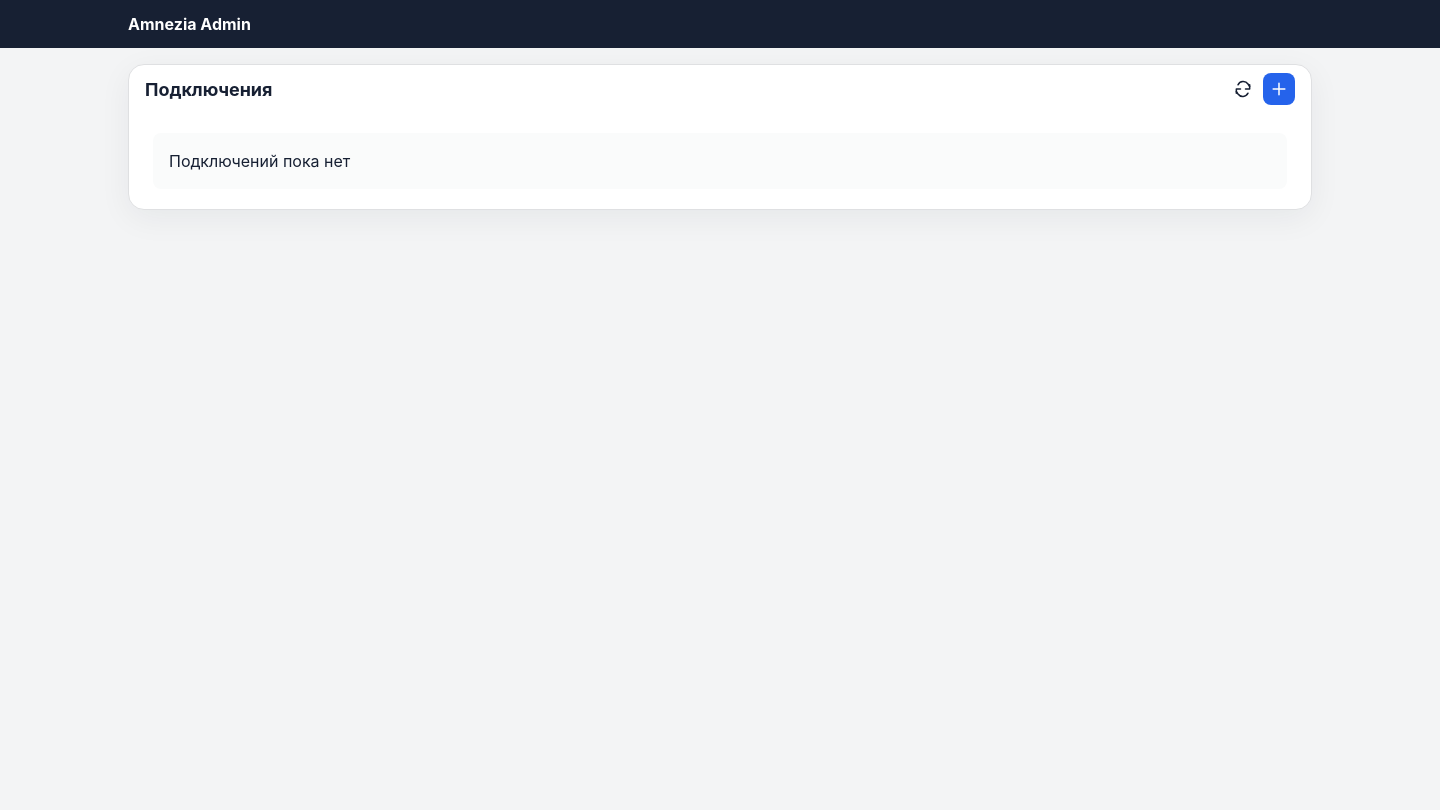
it: App › shows an empty state and opens the create modal on demand
expect the text "Подключений пока нет" is shown: met, box [153,133,1287,189]
Click the button named "Добавить подключение" at x=1279, y=89, box [1263,73,1295,105]
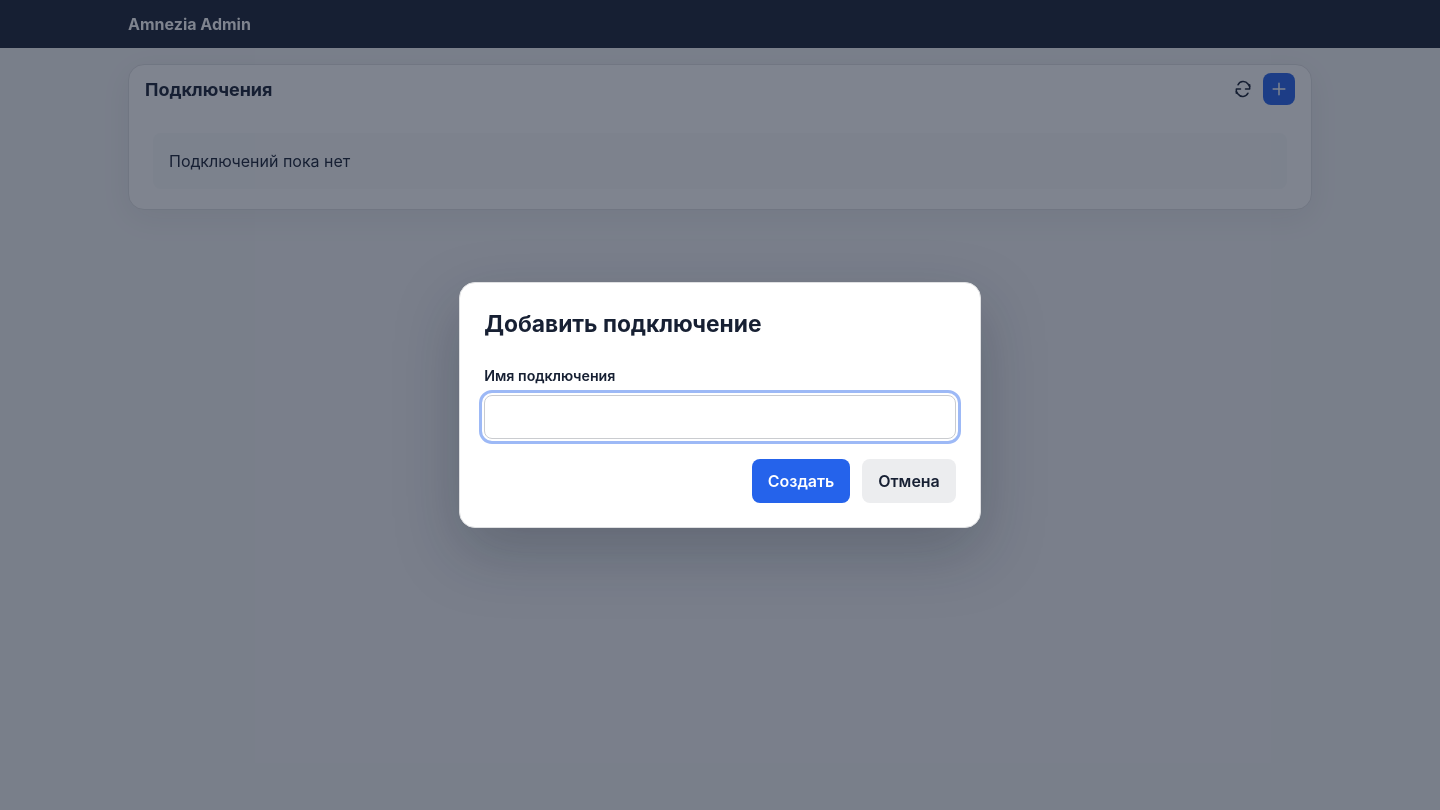
expect the dialog "Добавить подключение" is shown: met, box [459,282,981,528]
Click the button "Отмена" at x=909, y=481, box [862,459,956,503]
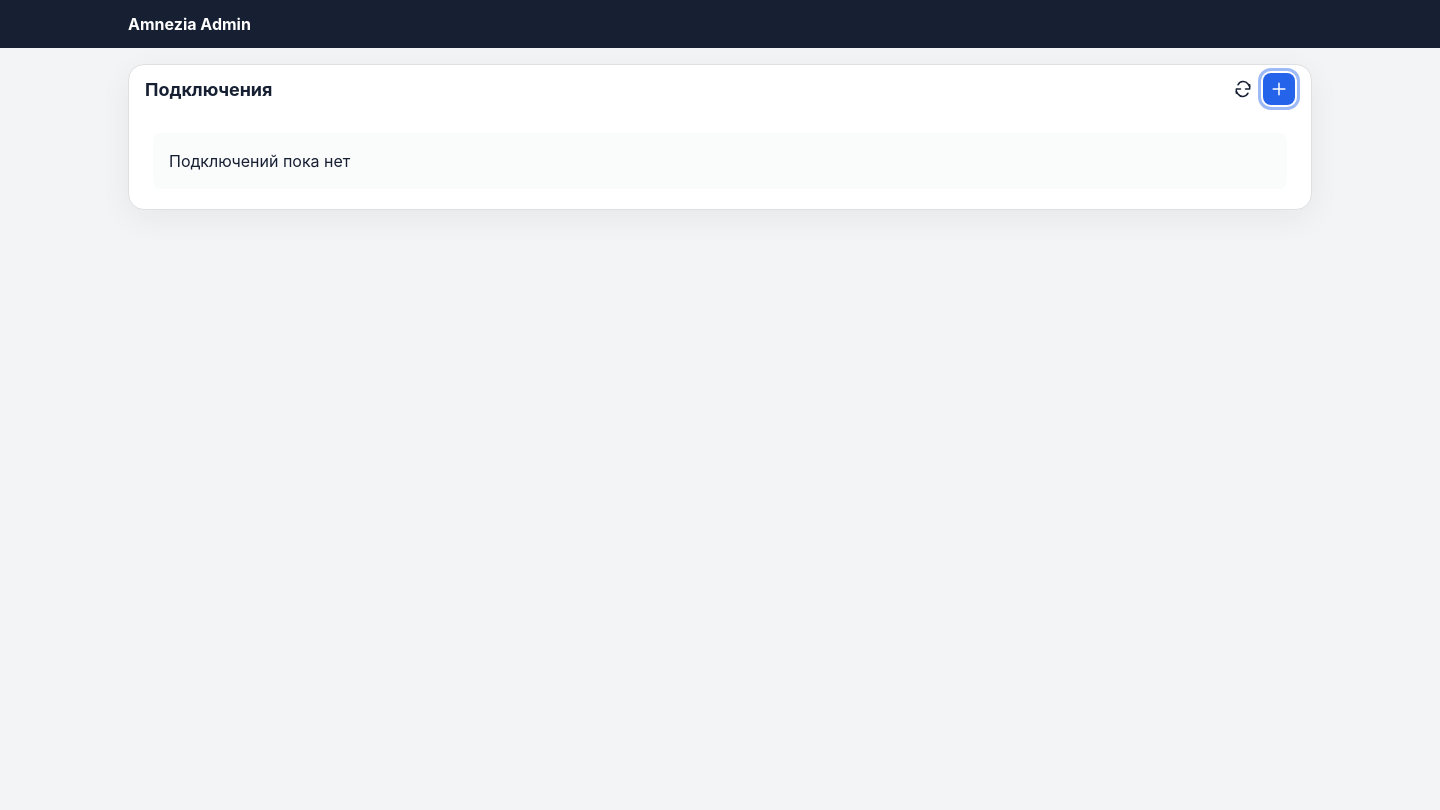
expect the dialog is gone: met
